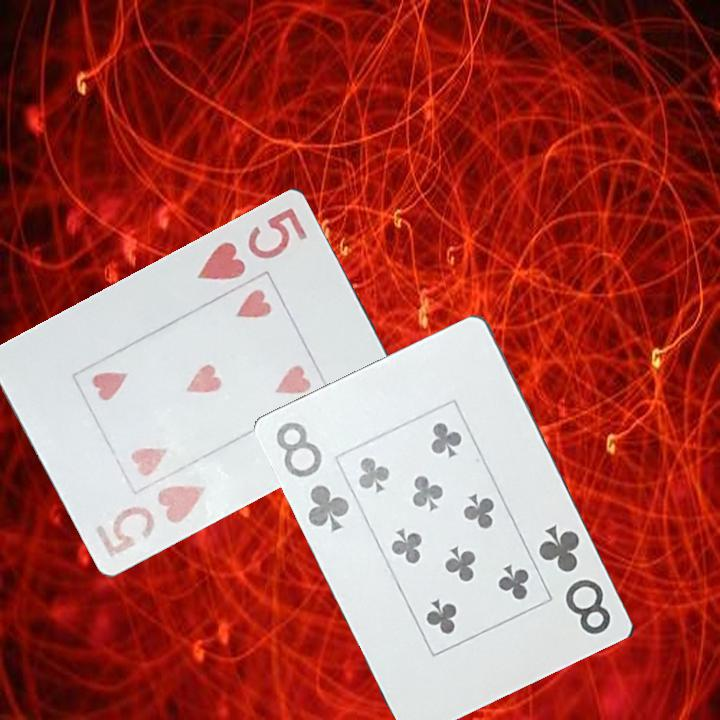5h: (92, 480, 211, 561), (193, 203, 311, 283)
8c: (273, 418, 354, 536), (535, 521, 615, 638)
